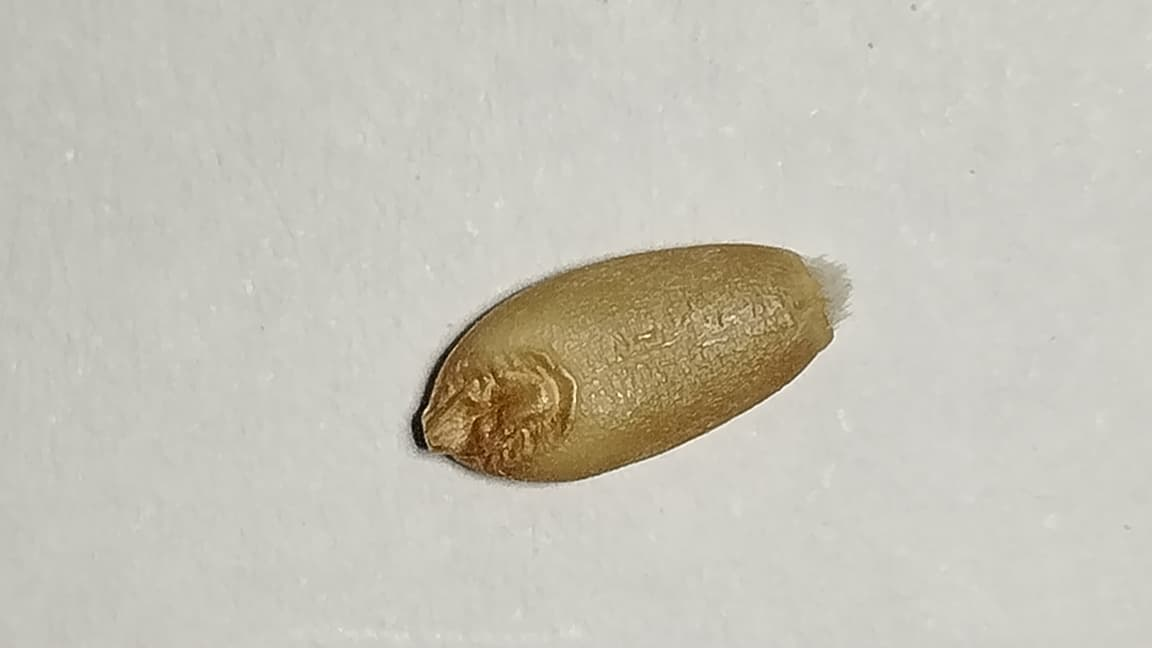healthy: (412, 242, 852, 481)
